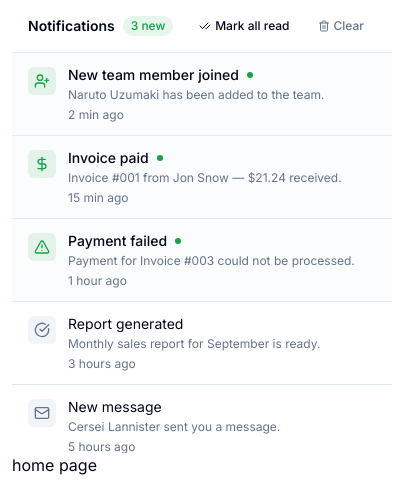
Test: NotificationsPanel › marks a notification read, navigates to its href, and closes
Click the button with aria-label "New team member joined (unread)".
click(202, 94)  # box [12, 53, 392, 135]
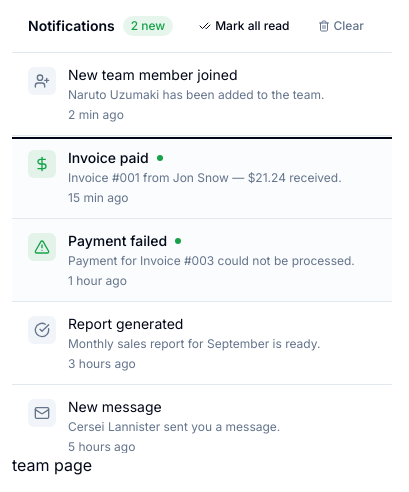
Expected: the text "team page" is shown, [12, 455, 92, 475]
